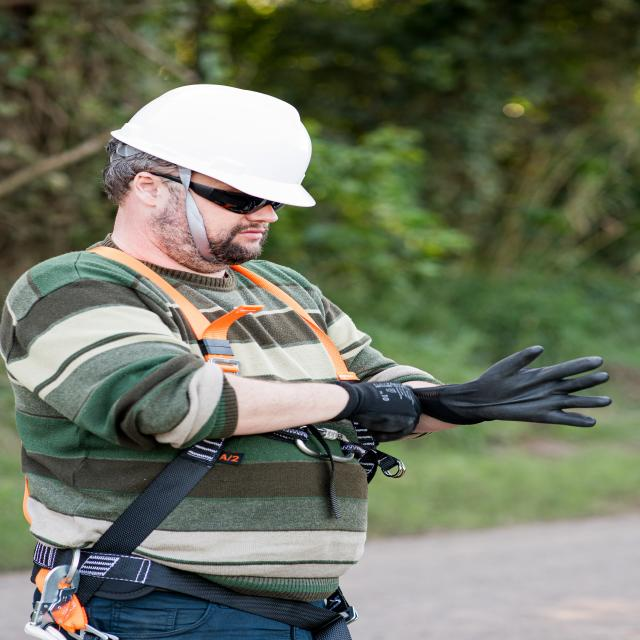capacete: (103, 78, 327, 210)
corda de vida: (20, 240, 375, 640)
luva: (430, 340, 616, 430), (325, 368, 427, 445)
